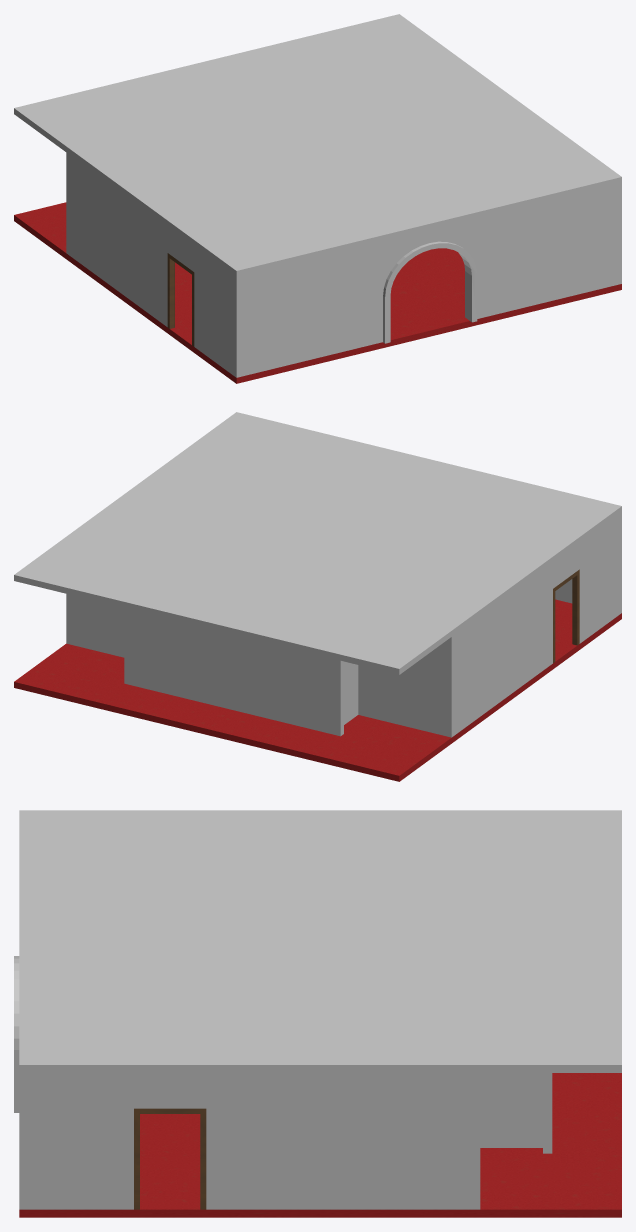
File: lobby.obj
The picture shows the model from 3 angles, top to bottom: view 1: azimuth 30°, elevation 25°; view 2: azimuth 150°, elevation 25°; view 3: azimuth 270°, elevation 25°; orthographic projection. The views are drawn at different scales.
Visible parts, largest first — view 1: lobby; view 2: lobby; view 3: lobby.
Boxes of the visible parts, box(x1,y1,x2,y2) form: lobby: box(14, 14, 621, 383); lobby: box(14, 412, 621, 781); lobby: box(14, 810, 621, 1217).
Size of what is drawn, in the model's own units: 40 by 11.2 by 40.36.
